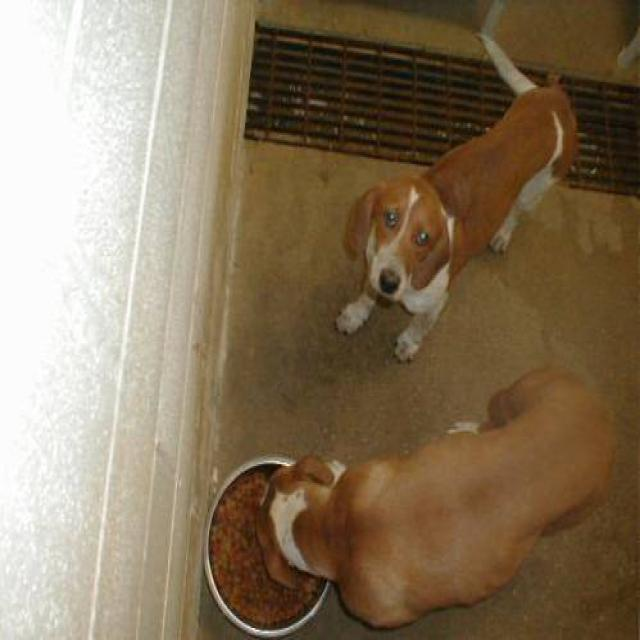Dog: (349, 167, 449, 314)
